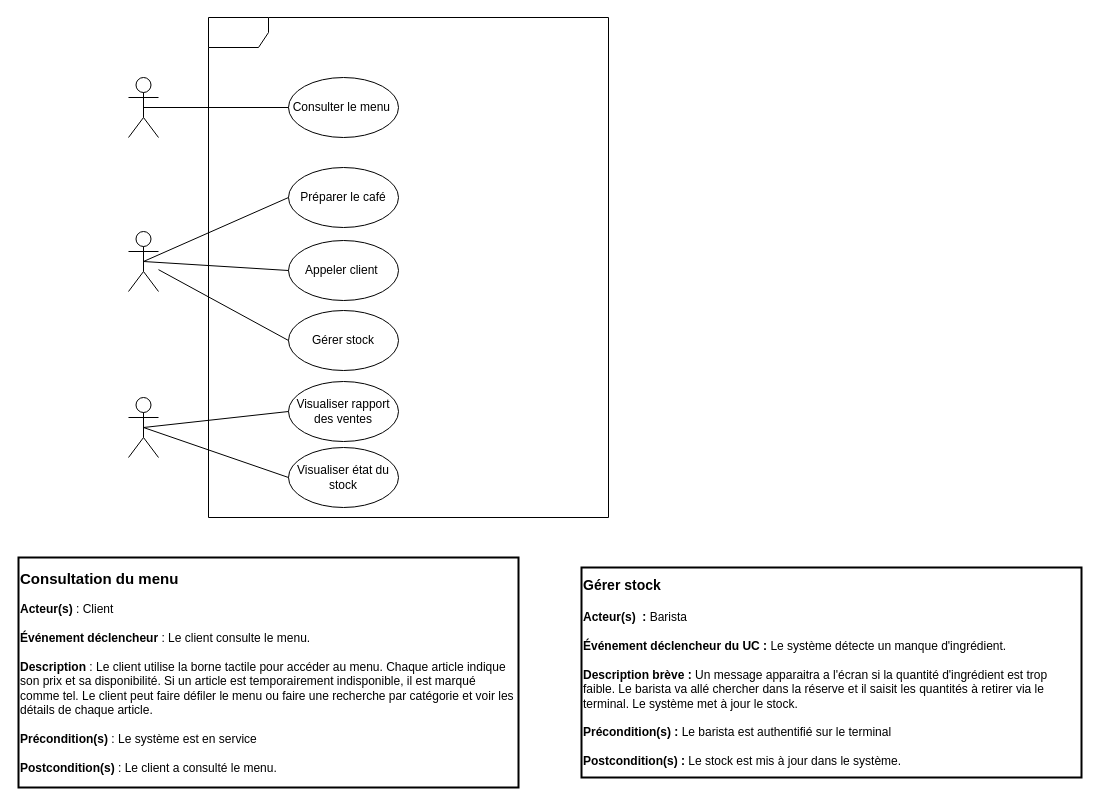
This 1099x806 diagram has some shape labels left out. Here are the shapes that lost their labels. From the top down, the box of each, then its label:
(128, 76, 158, 138): Client
(128, 230, 158, 292): Barista
(208, 16, 608, 518): S.I. Java Express
(128, 396, 158, 458): Gérant
